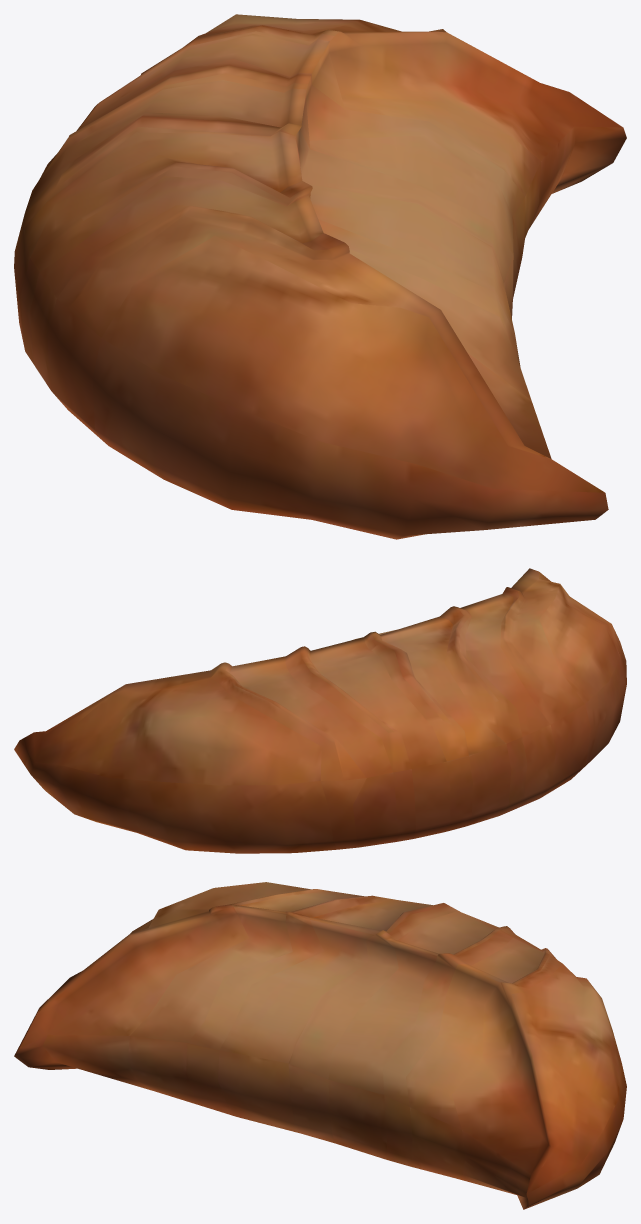
Rendered from gyoza.glb.
The picture shows the model from 3 angles, top to bottom: view 1: azimuth 30°, elevation 25°; view 2: azimuth 150°, elevation 25°; view 3: azimuth 270°, elevation 25°; orthographic projection. The views are drawn at different scales.
Size of the model in its own units: 0.8663 by 0.3081 by 1.
Materials: 1 (1 with a texture image).
